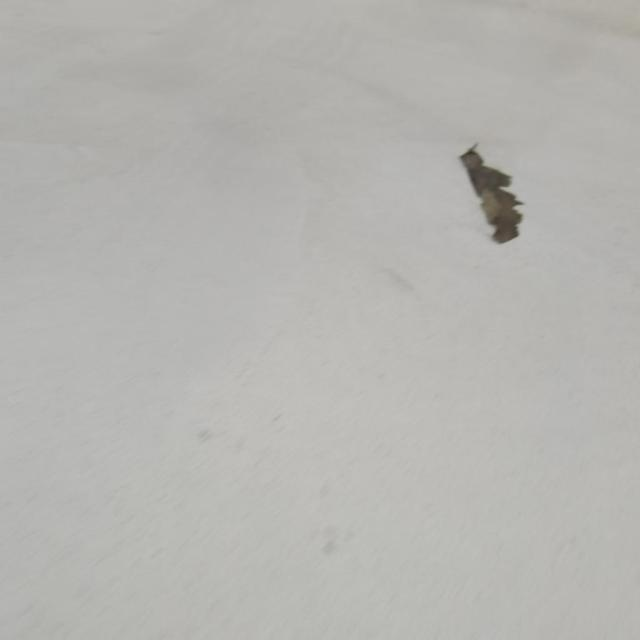surface_peeling: (454, 140, 528, 248)
